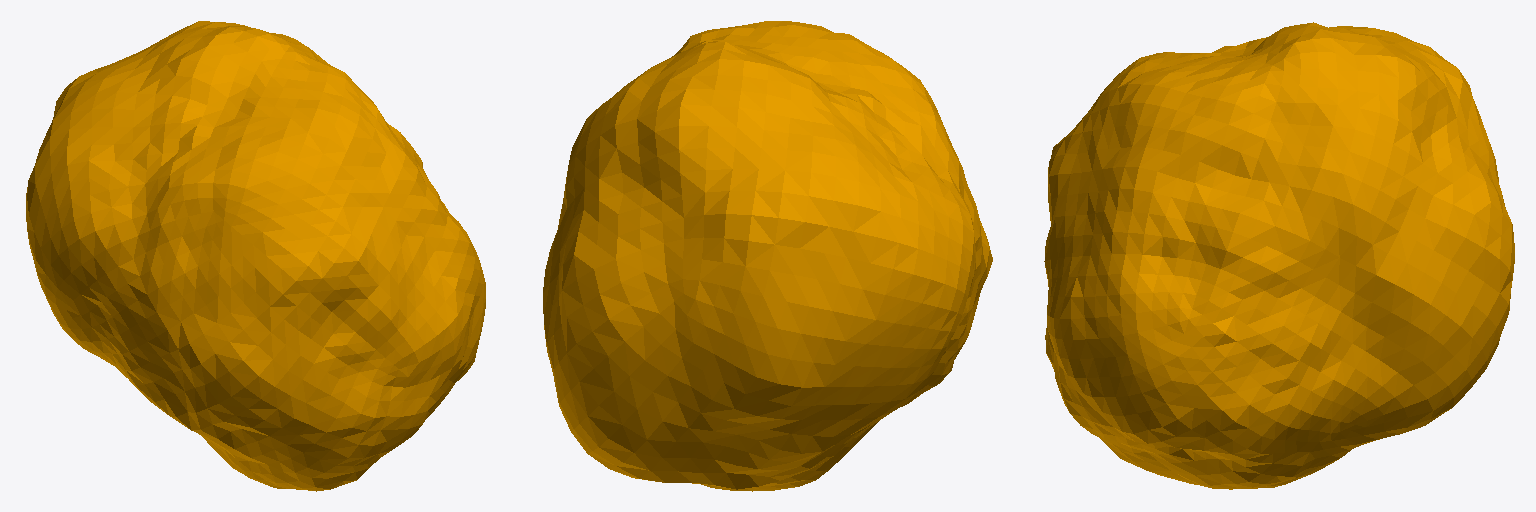
The robot description file, URDF, robot "rock":
<?xml version="1.0" ?>
<robot name="rock">
  <link name="rock">
    <inertial>
      <mass value="0.200"/>
      <origin rpy="0 0 0" xyz="0 0 0"/>
      <inertia ixx="0.000200" ixy="0" ixz="0" iyy="0.000200" iyz="0" izz="0.000200"/>
    </inertial>
    <collision name="rock_collision">
      <origin rpy="0 0 0" xyz="0 0 0"/>
      <geometry>
        <mesh filename="package://rocks/visual/137.dae" scale="1 1 1"/>
      </geometry>
    </collision>
    <visual name="rock_visual">
      <origin rpy="0 0 0" xyz="0 0 0"/>
      <geometry>
        <mesh filename="package://rocks/visual/137.dae" scale="1 1 1"/>
      </geometry>
    </visual>
  </link>
</robot>

--- Facts derived from the render (not from the file) ---
The picture shows the robot from 3 angles, left to right: view 1: azimuth 30°, elevation 25°; view 2: azimuth 150°, elevation 25°; view 3: azimuth 270°, elevation 25°; orthographic projection.
Robot: rock — 1 links, 0 joints (none); root link rock; default pose: all joints at 0.
Visible links, largest first — view 1: rock; view 2: rock; view 3: rock.
Link boxes in pixels (bbox=[...]): rock: bbox=[26, 21, 485, 491]; rock: bbox=[543, 21, 992, 491]; rock: bbox=[1044, 22, 1514, 489].
Size in the robot's own frame: 0.0752 by 0.0769 by 0.079 metres.
Meshes: 1 distinct files referenced, 1 mesh visuals loaded (1 Collada DAE).